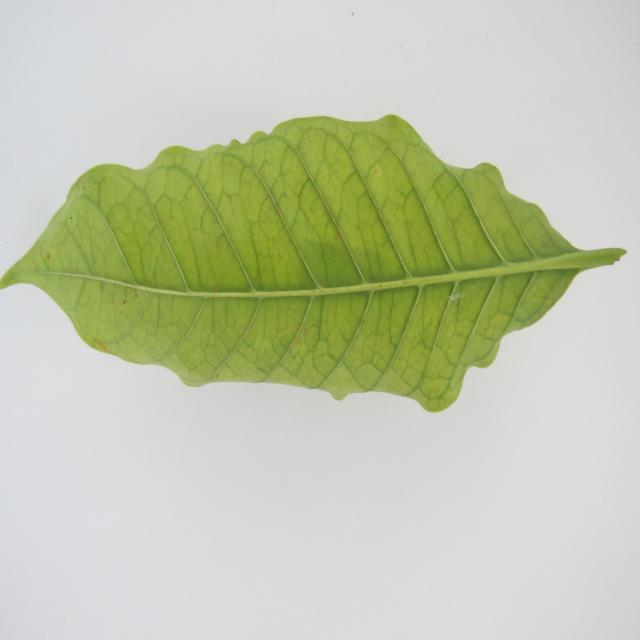DeficienciaNutricional-Calcio: (0, 117, 624, 412)
